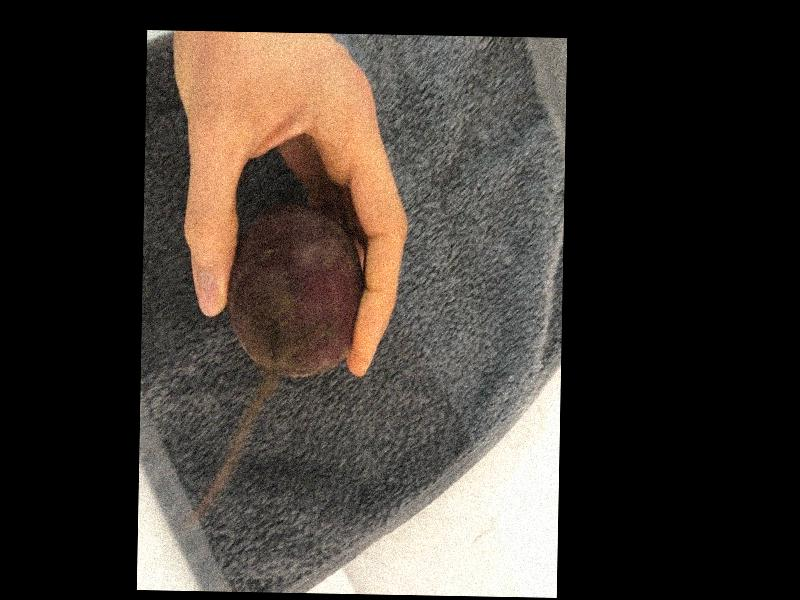Beet: (226, 202, 364, 376)
